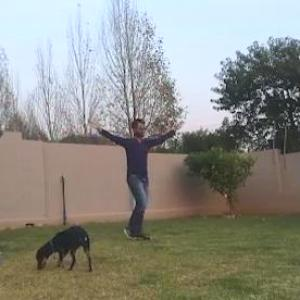takeoff: (50, 114, 171, 251)
